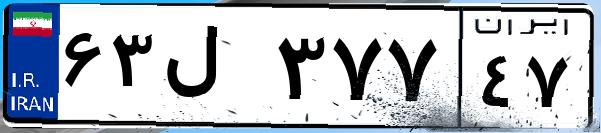3: (270, 28, 330, 110), (110, 28, 158, 98)
4: (475, 38, 525, 113)
6: (57, 26, 110, 100)
7: (385, 28, 445, 110), (330, 28, 385, 110), (525, 38, 570, 115)
ل: (158, 20, 270, 120)
